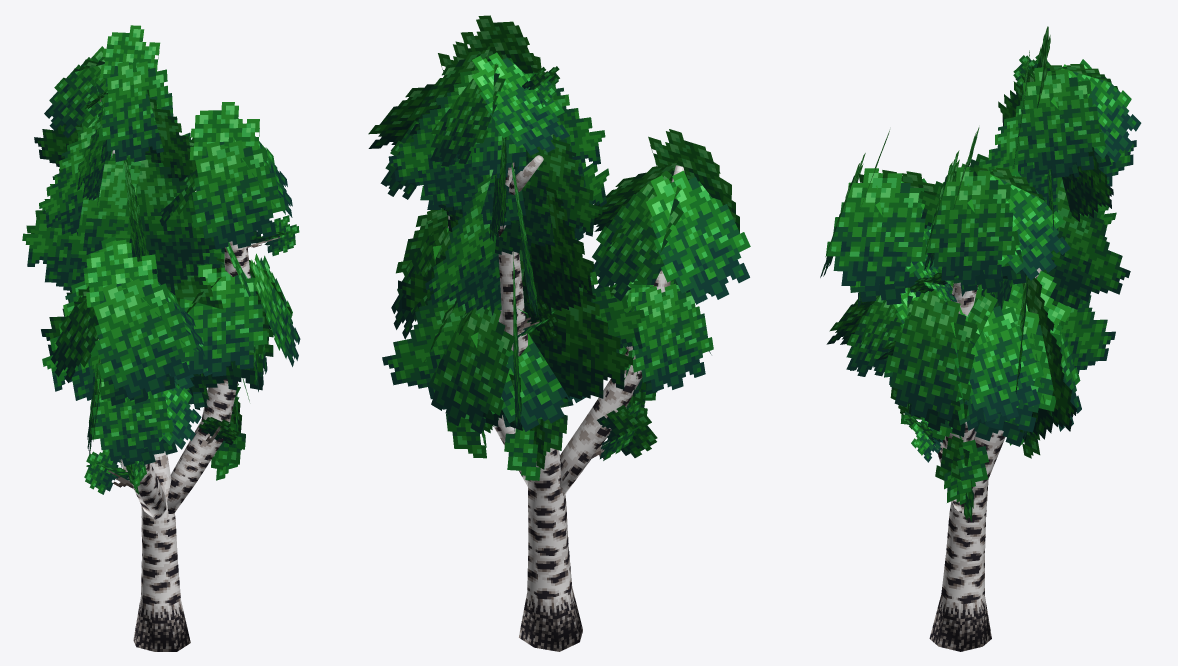
File: birch.glb
The picture shows the model from 3 angles, left to right: view 1: azimuth 30°, elevation 25°; view 2: azimuth 150°, elevation 25°; view 3: azimuth 270°, elevation 25°; orthographic projection. The views are drawn at different scales.
Visible parts, largest first — view 1: birch_texture.028, Cylinder, branch.007, birch_texture.006, branch.008, branch.002; view 2: birch_texture.028, Cylinder, birch_texture.013, branch.007, birch_texture.006, branch.004, branch.001; view 3: birch_texture.028, Cylinder, birch_texture.006, branch.002, branch.008.
Boxes of the visible parts, bbox=[...] form: birch_texture.028: bbox=[22, 25, 300, 467]; Cylinder: bbox=[98, 150, 250, 651]; branch.007: bbox=[84, 449, 133, 494]; birch_texture.006: bbox=[211, 383, 245, 480]; branch.008: bbox=[247, 215, 299, 255]; branch.002: bbox=[198, 414, 239, 444]; birch_texture.028: bbox=[368, 15, 750, 434]; Cylinder: bbox=[448, 155, 684, 651]; birch_texture.013: bbox=[504, 406, 567, 480]; branch.007: bbox=[591, 405, 657, 460]; birch_texture.006: bbox=[446, 414, 493, 458]; branch.004: bbox=[517, 301, 558, 343]; branch.001: bbox=[522, 66, 559, 108]; birch_texture.028: bbox=[820, 26, 1141, 446]; Cylinder: bbox=[929, 268, 1041, 651]; birch_texture.006: bbox=[935, 435, 988, 521]; branch.002: bbox=[905, 415, 942, 462]; branch.008: bbox=[910, 267, 957, 301].
Bounding box in the file's own units: 8.52 × 15.39 × 8.06.
1 material, 1 textured.
